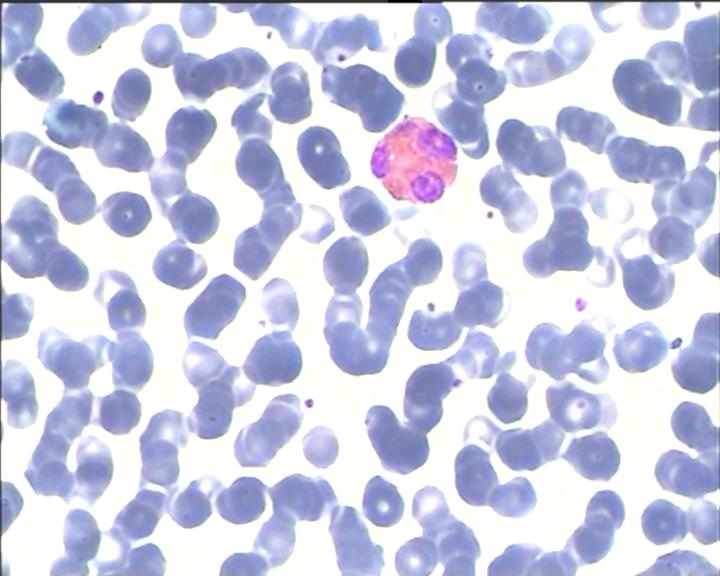eosi: (366, 111, 462, 204)
